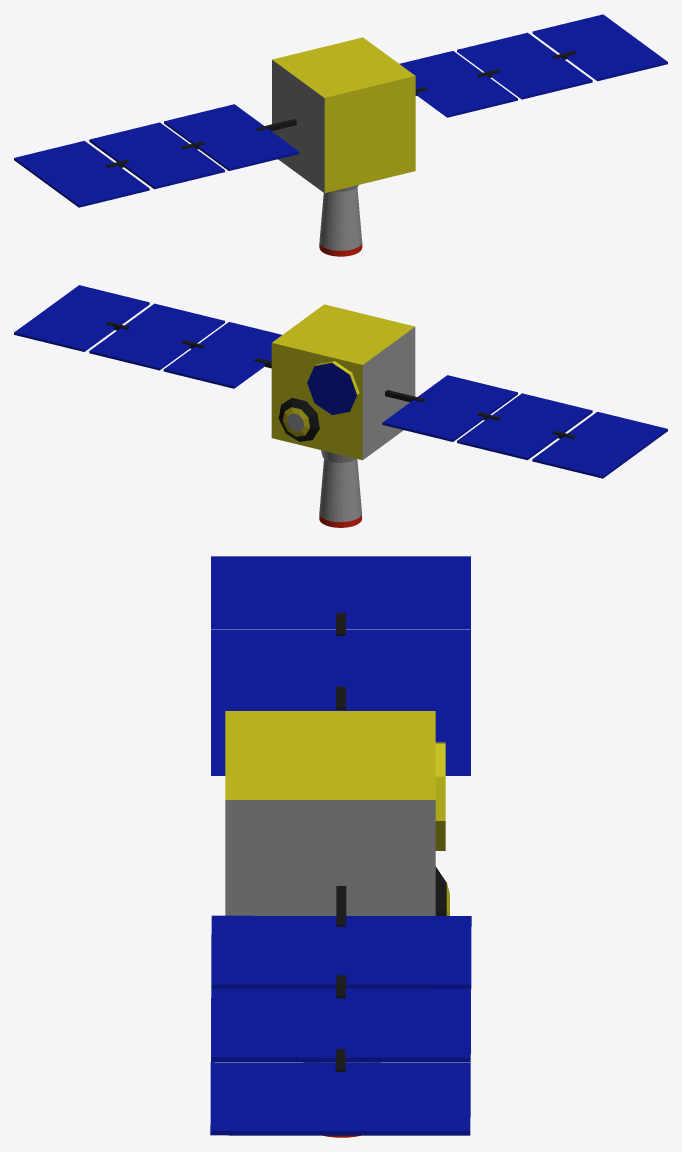
Rendered from sat2.obj.
The picture shows the model from 3 angles, top to bottom: view 1: azimuth 30°, elevation 25°; view 2: azimuth 150°, elevation 25°; view 3: azimuth 270°, elevation 25°; orthographic projection. The views are drawn at different scales.
Visible parts, largest first — view 1: Cube, Cube.006, Cube.009, Cube.005, Cube.010, Cube.003, Cube.012, Cylinder.006; view 2: Cube, Cube.006, Cube.009, Cube.003, Cube.010, Cube.005, Cube.012, Cylinder.006, Cylinder, Cone, Cone.001; view 3: Cube, Cube.009, Cube.006, Cube.010, Cube.012, Cube.005, Cube.003, Cylinder.
Part boxes in pixels (left/top/right/bottom): Cube: left=272, top=37, right=415, bottom=193; Cube.006: left=14, top=141, right=149, bottom=207; Cube.009: left=532, top=14, right=667, bottom=81; Cube.005: left=89, top=122, right=224, bottom=189; Cube.010: left=457, top=32, right=592, bottom=99; Cube.003: left=164, top=104, right=299, bottom=170; Cube.012: left=399, top=51, right=517, bottom=117; Cylinder.006: left=319, top=187, right=362, bottom=250; Cube: left=271, top=304, right=415, bottom=460; Cube.006: left=532, top=411, right=667, bottom=478; Cube.009: left=14, top=285, right=149, bottom=351; Cube.003: left=382, top=375, right=517, bottom=441; Cube.010: left=89, top=303, right=224, bottom=370; Cube.005: left=457, top=393, right=592, bottom=460; Cube.012: left=163, top=322, right=281, bottom=388; Cylinder.006: left=319, top=459, right=361, bottom=521; Cylinder: left=307, top=361, right=359, bottom=414; Cone: left=278, top=397, right=319, bottom=441; Cone.001: left=283, top=407, right=309, bottom=436; Cube: left=225, top=711, right=435, bottom=915; Cube.009: left=210, top=1062, right=470, bottom=1135; Cube.006: left=211, top=556, right=470, bottom=629; Cube.010: left=211, top=988, right=470, bottom=1061; Cube.012: left=211, top=915, right=471, bottom=988; Cube.005: left=211, top=630, right=470, bottom=702; Cube.003: left=211, top=702, right=470, bottom=775; Cylinder: left=435, top=742, right=445, bottom=850.
Size of the model in its own units: 6.47 by 1.91 by 1.24.
